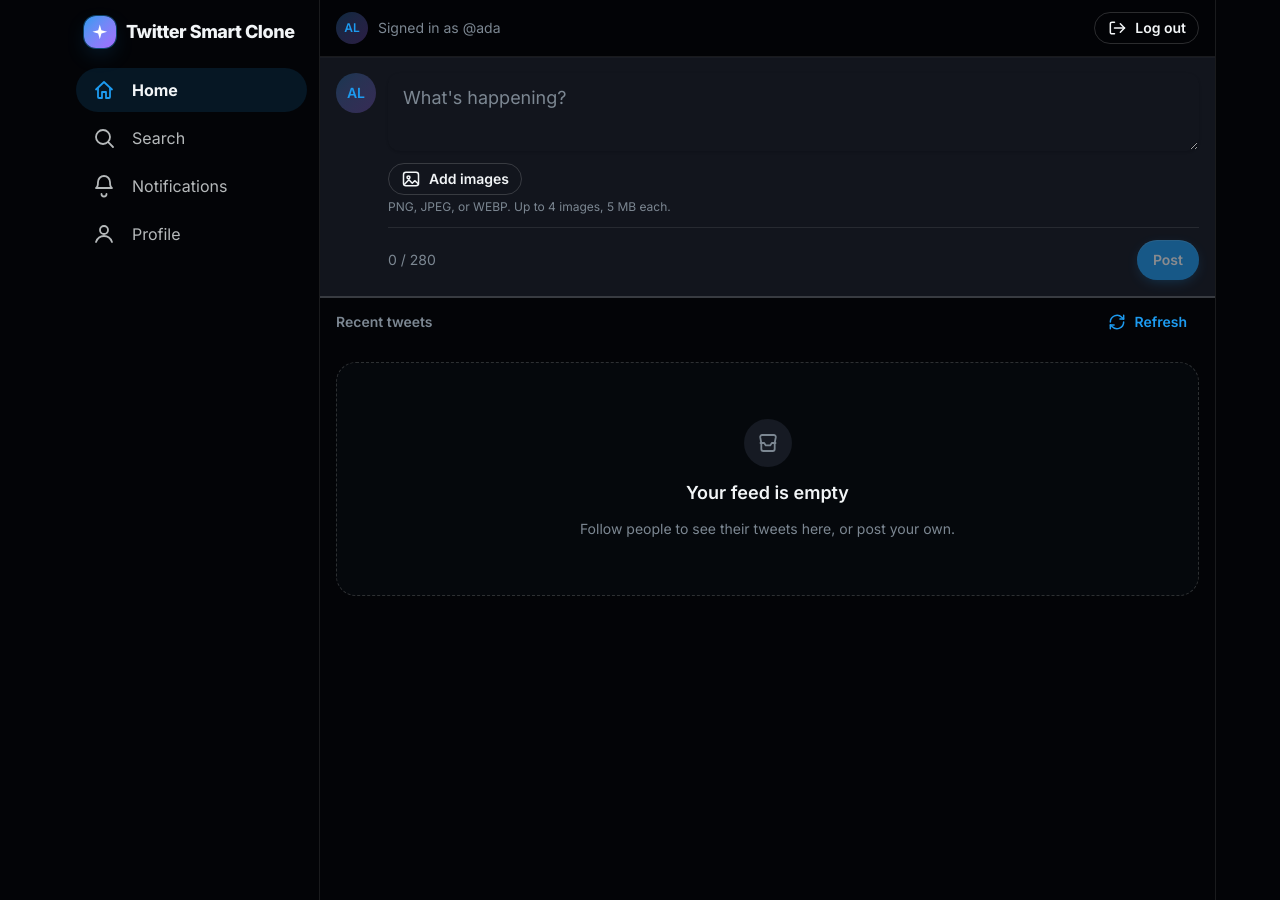
ProfileEdit › saves valid edits and navigates to the (possibly renamed) profile
The width and height of the screenshot is (1280, 900).
Step 1. Click the text "Signed in as @ada" → coordinates (439, 28), box [378, 18, 500, 38]
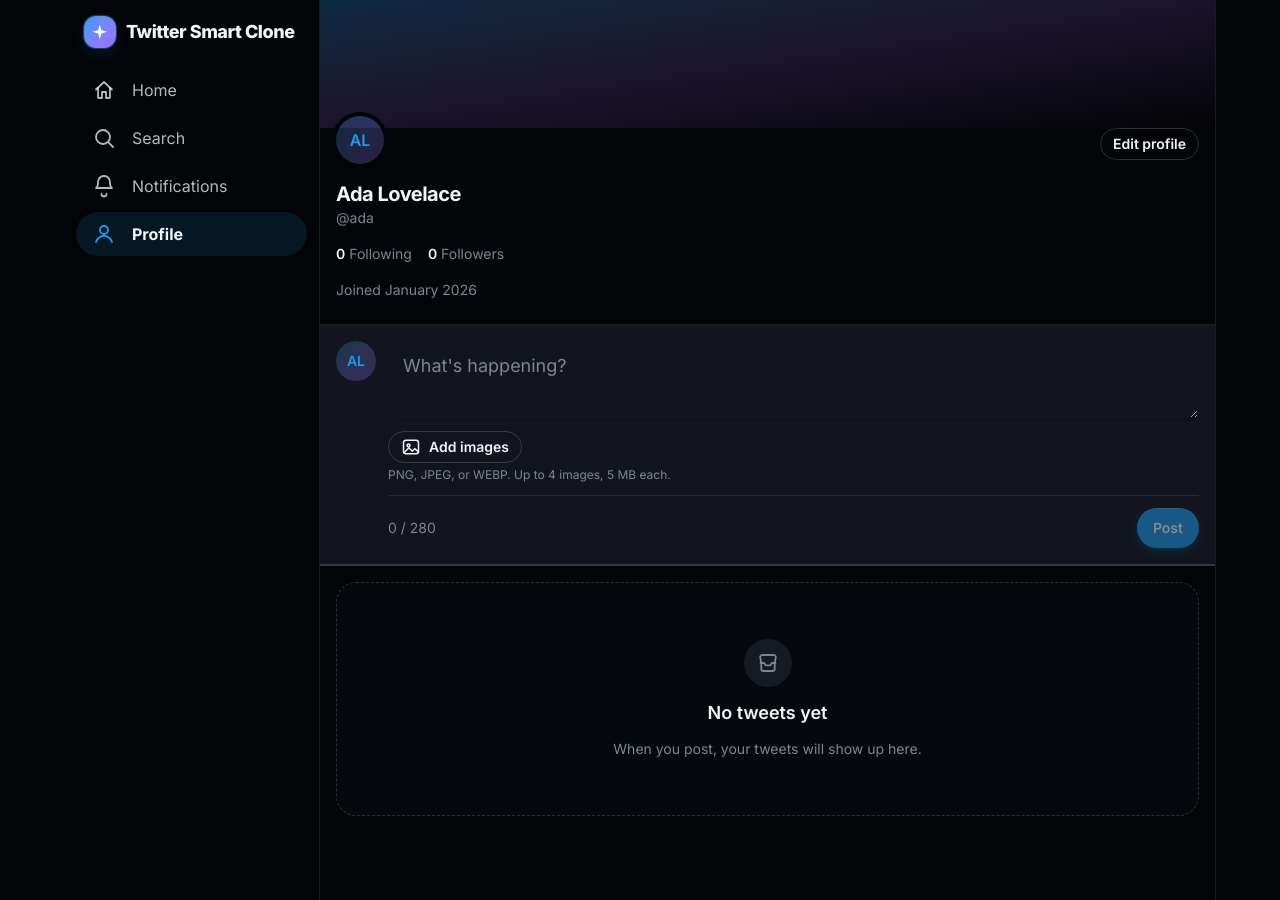
Step 2. Click the button "Edit profile" → coordinates (1150, 144), box [1100, 128, 1199, 160]
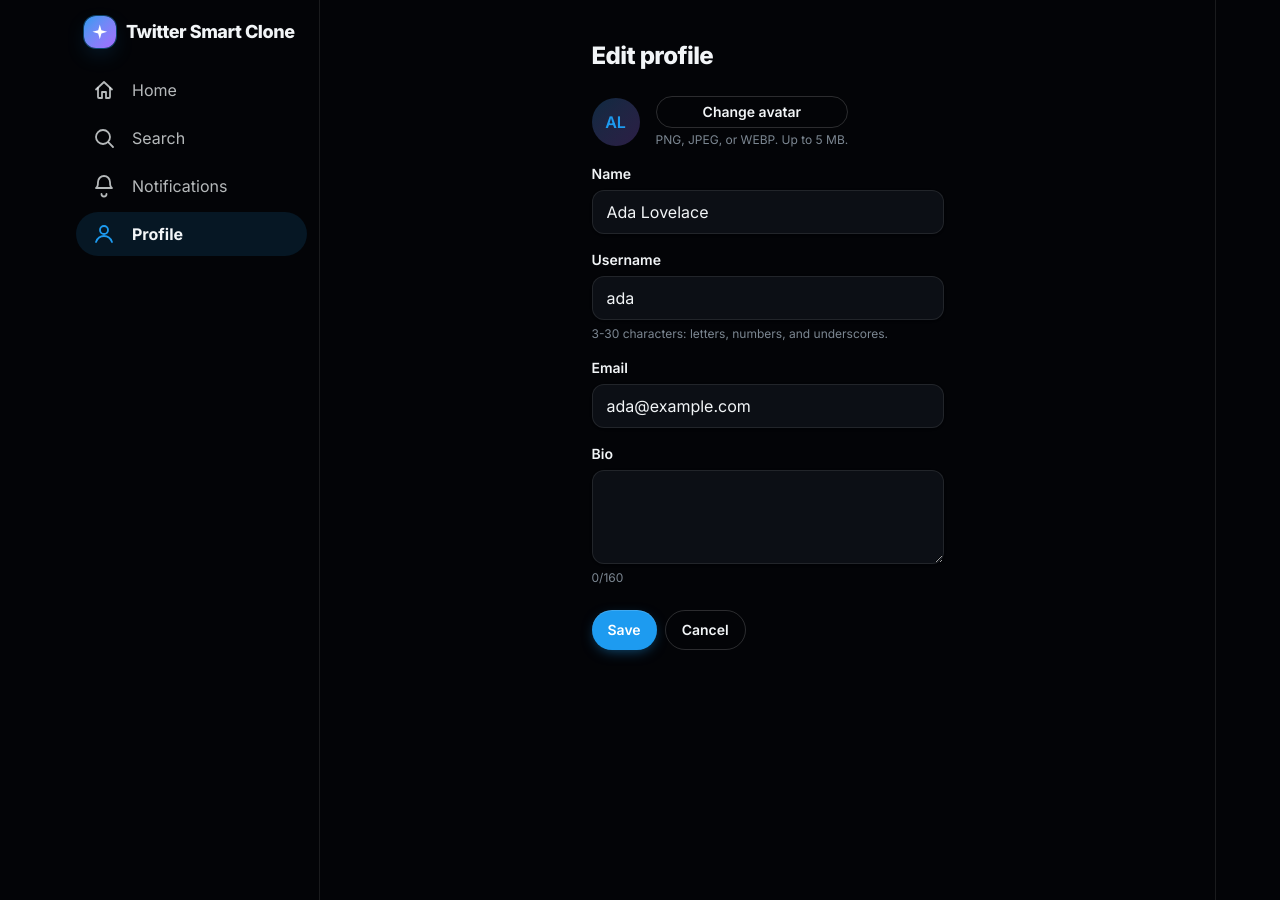
Check: the heading "Edit profile" is shown, box [592, 41, 713, 70]
Step 3. Replace the text in the field labelled "Name" with "Ada Updated" → coordinates (768, 212), box [592, 190, 944, 234]
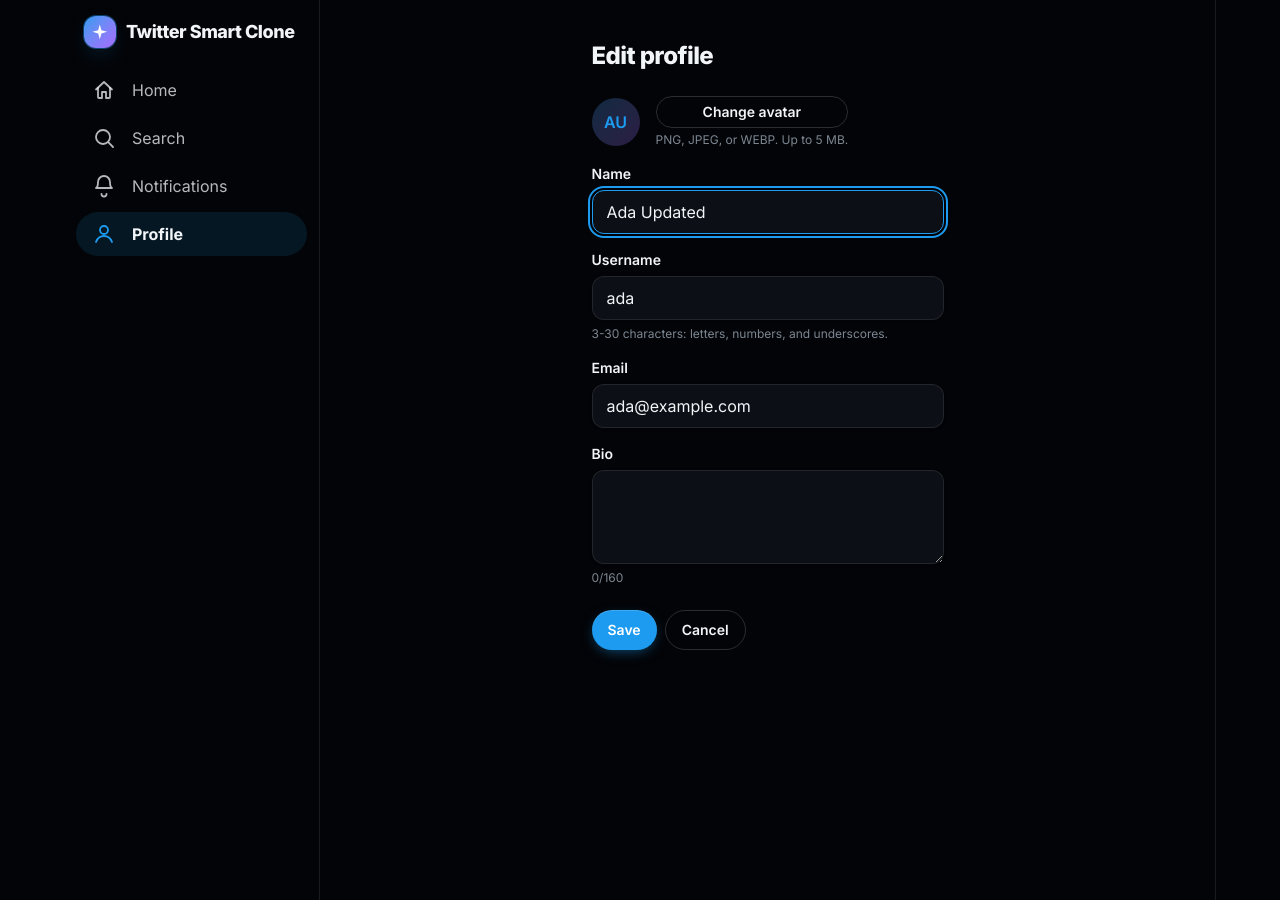
Step 4. Replace the text in the field labelled "Username" with "ada_updated" → coordinates (768, 298), box [592, 276, 944, 320]
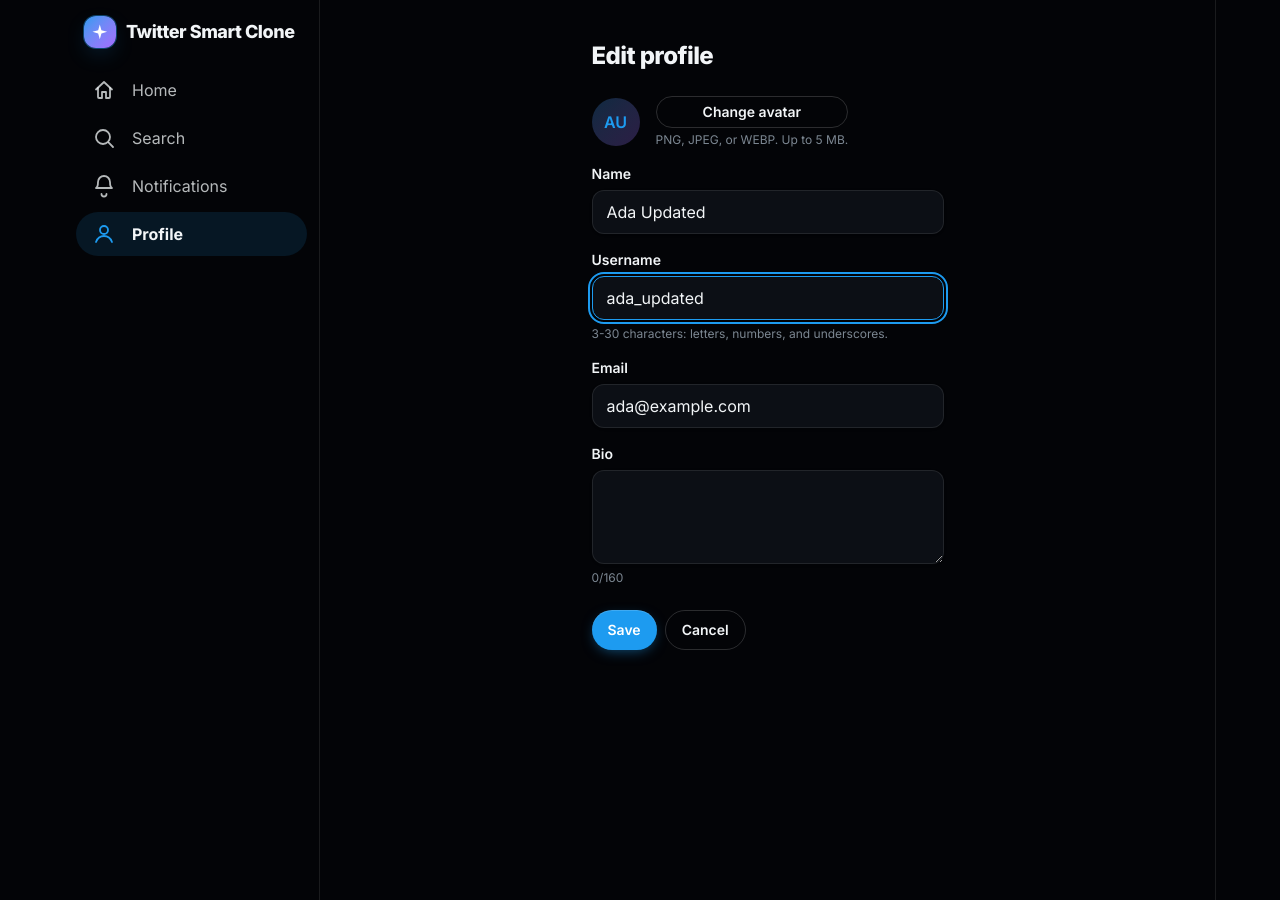
Step 5. Type "Updated bio." into the text box labelled "Bio" → coordinates (768, 517), box [592, 470, 944, 564]
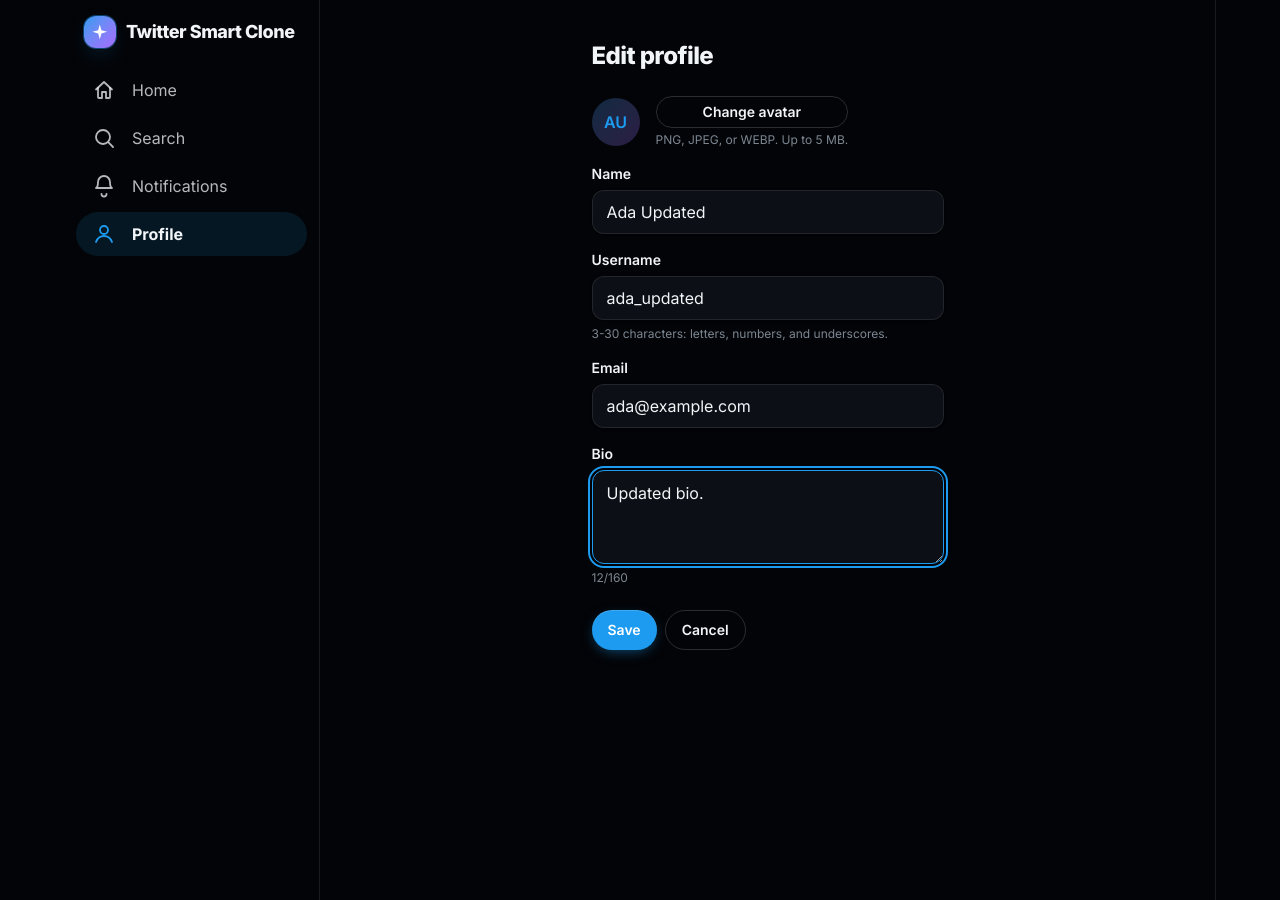
Step 6. Click the button "Save" → coordinates (624, 630), box [592, 610, 657, 650]
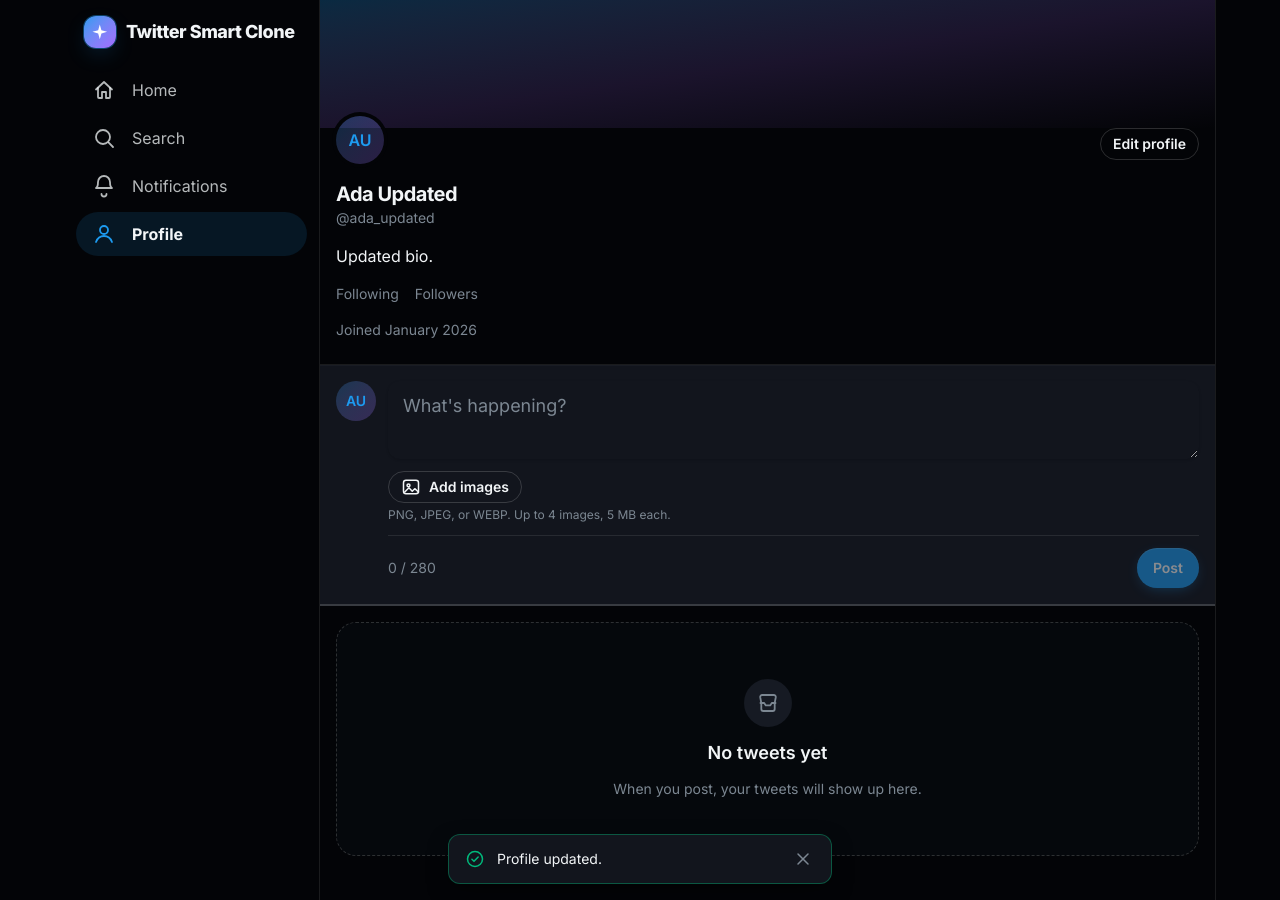
Check: the text "Profile updated." is shown, box [497, 850, 602, 867]
Check: the heading "Ada Updated" is shown, box [336, 182, 457, 206]
Check: the text "@ada_updated" is shown, box [336, 209, 435, 226]
